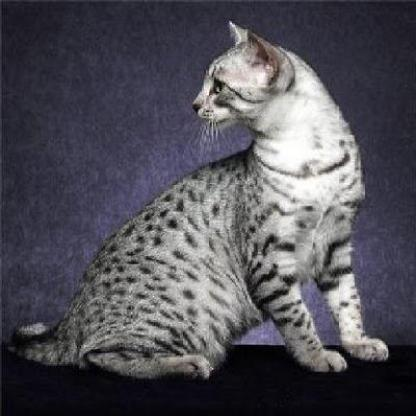cat: (11, 25, 389, 377)
